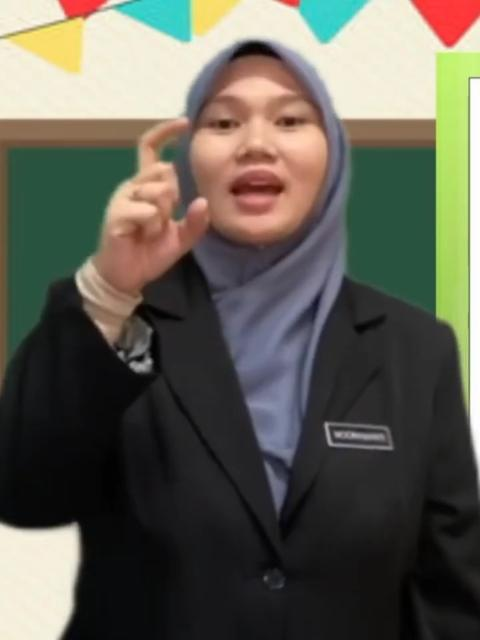X: (96, 119, 218, 288)
